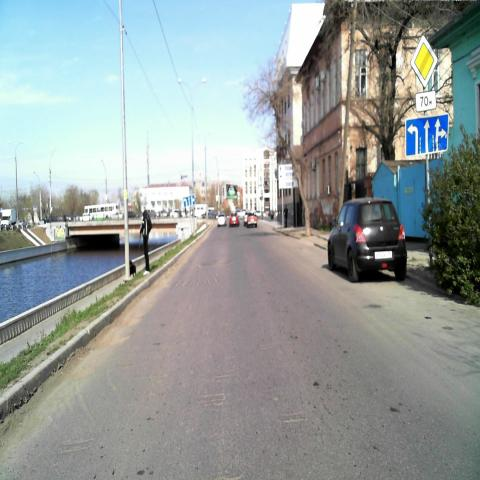8_1_1: (416, 90, 436, 111)
